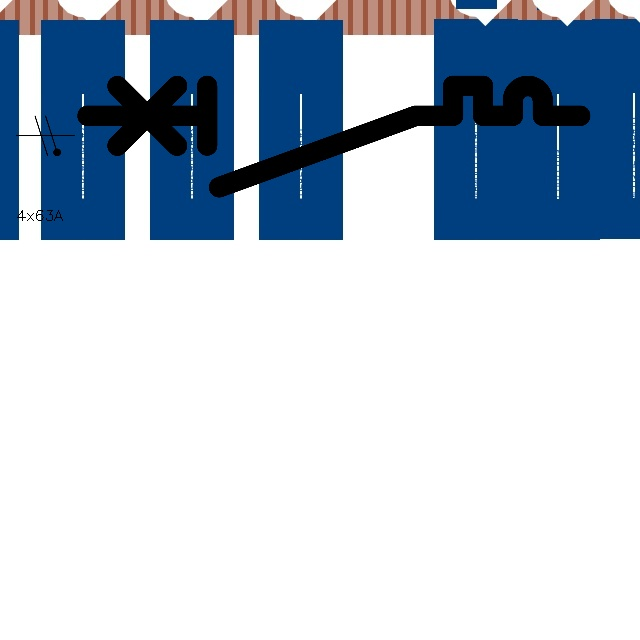interruptor_termomagnetico: (74, 73, 593, 200)
